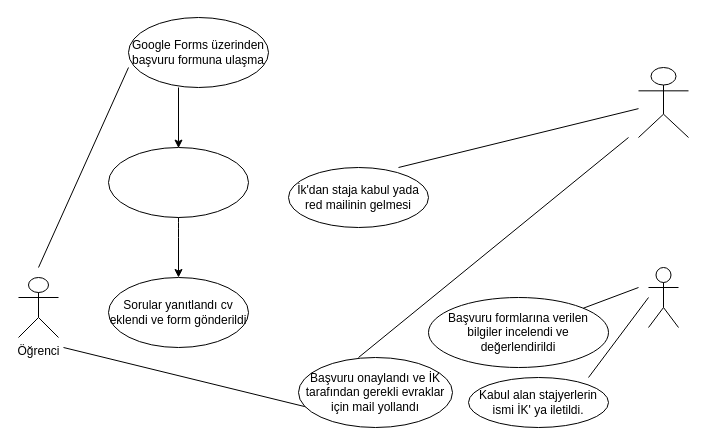
Some shapes in this 725 by 445 pixel diagram are drawn without their labels. Each missing label, with the box of its shape:
İnsan Kaynakları: (638, 66, 688, 138)
Staj Başvuru Formunu Doldurma: (108, 146, 248, 218)
Staj Yöneticisi: (648, 266, 678, 328)
